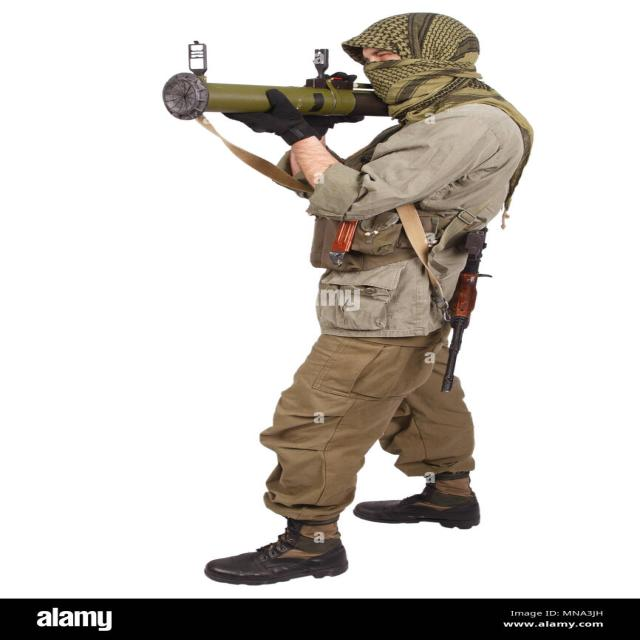bazooka: (139, 46, 434, 149)
